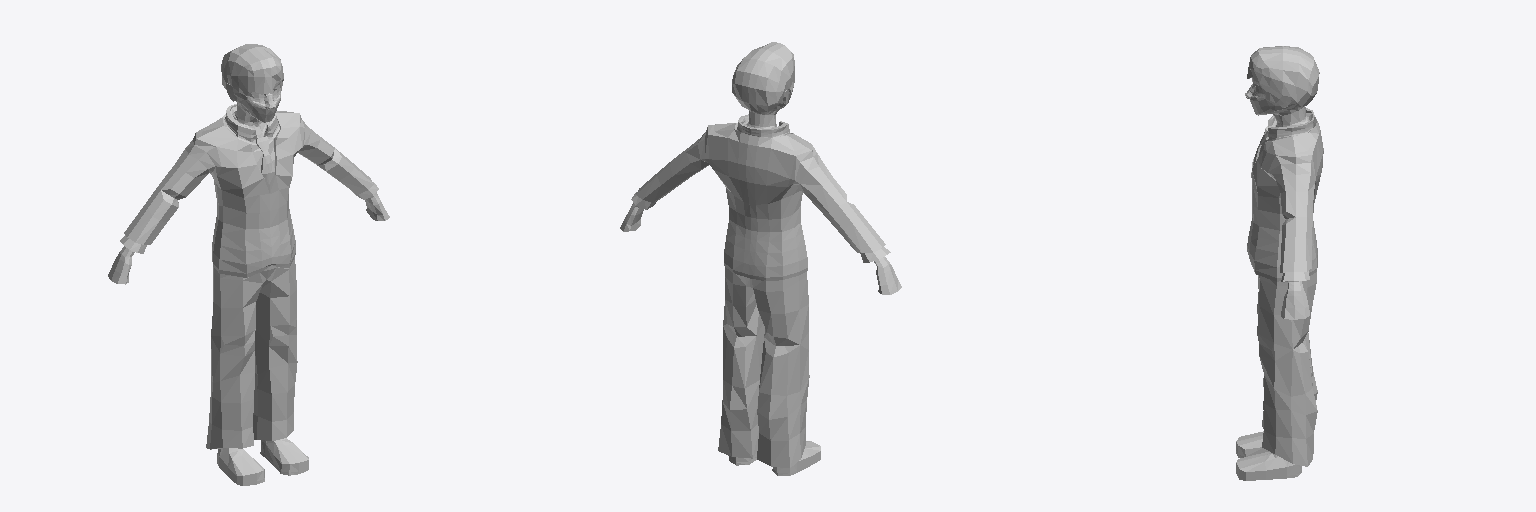
File: Gladder.obj
3 views of the same model, side by side, from view 1: azimuth 30°, elevation 25°; view 2: azimuth 150°, elevation 25°; view 3: azimuth 270°, elevation 25° (orthographic).
Parts seen in each view (by area): view 1: Cube.008; view 2: Cube.008; view 3: Cube.008.
Boxes of the visible parts, box(x1,y1,x2,y2) form: Cube.008: box(108, 44, 389, 485); Cube.008: box(620, 42, 901, 475); Cube.008: box(1236, 46, 1323, 480).
Bounding box in the file's own units: 3.62 × 5.21 × 0.9976.